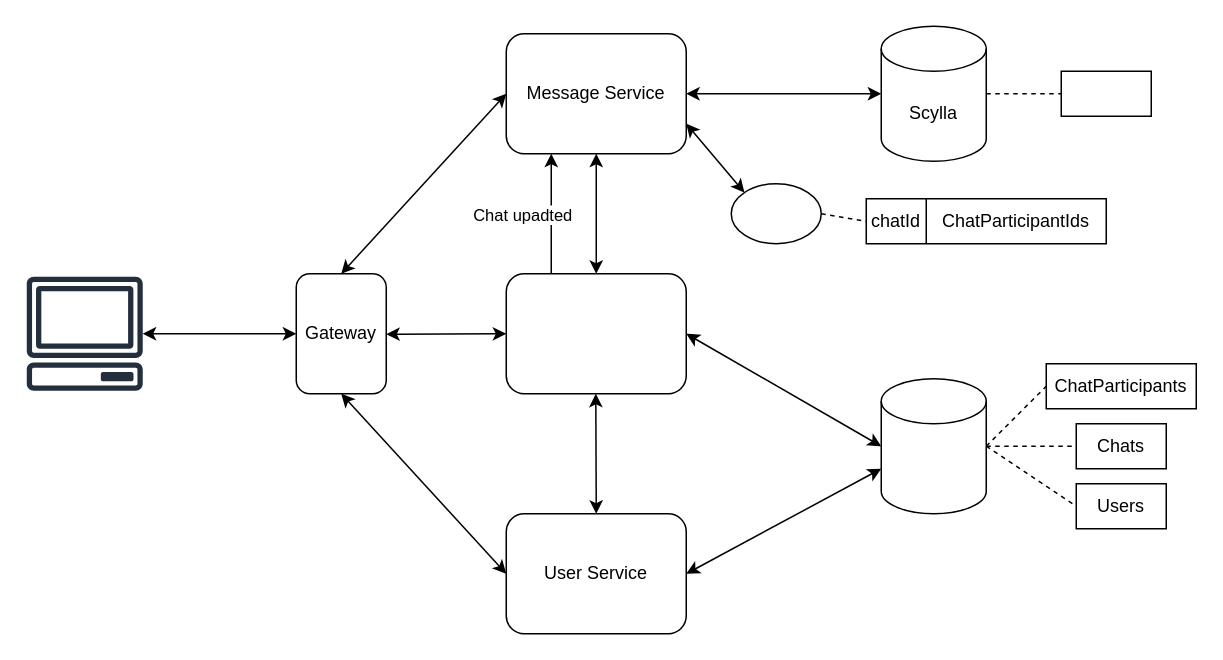
This 1223x660 diagram has some shape labels left out. The shapes that lost their labels are listed below. From the top down, each one's box as (x1, y1, x2, y2) in pixels, then its label:
(1060, 70, 1151, 116): Messages
(730, 182, 821, 244): Redis
(505, 272, 686, 394): Chat Service
(880, 377, 986, 514): Postgresql
